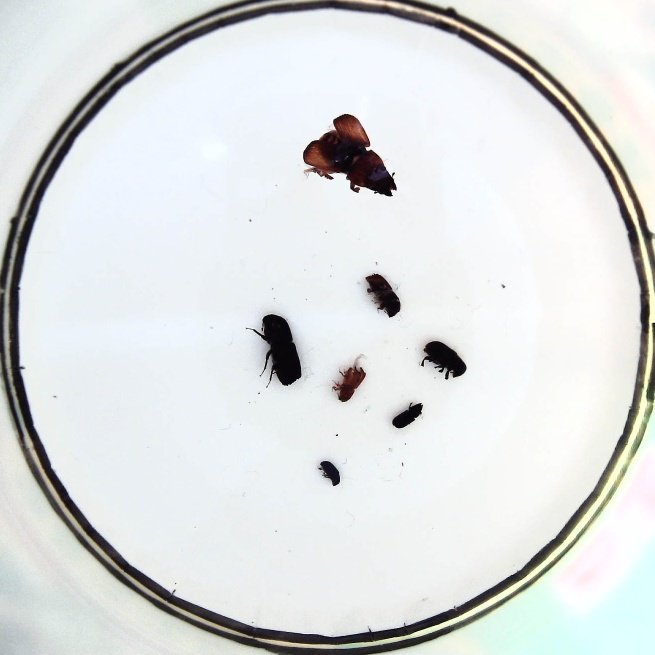acuminatus: (337, 366, 365, 403)
armandi: (423, 342, 464, 380)
boerner: (259, 312, 302, 385)
coleoptera: (390, 402, 424, 428), (320, 459, 340, 485)
leconte: (304, 111, 396, 196)
linnaeus: (365, 272, 399, 317)
